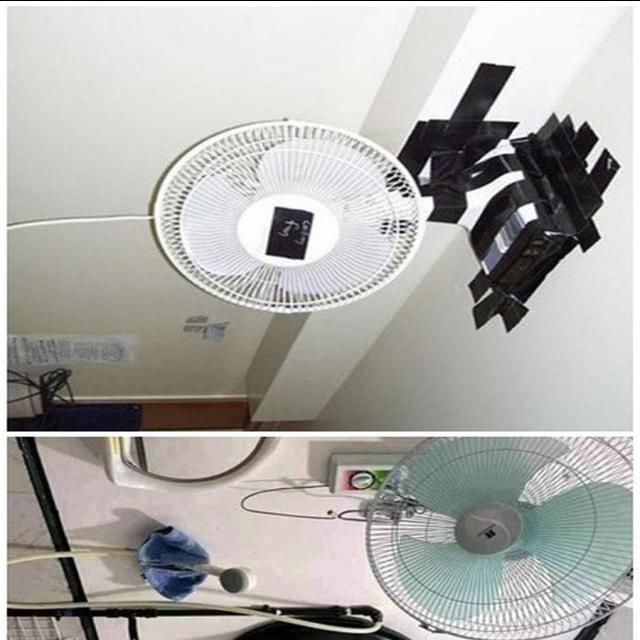fan: (144, 118, 430, 323)
